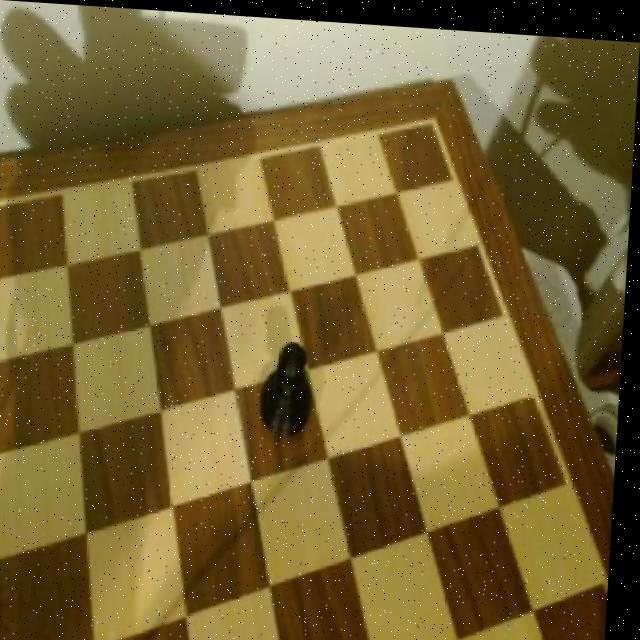black-knight: (260, 332, 321, 439)
